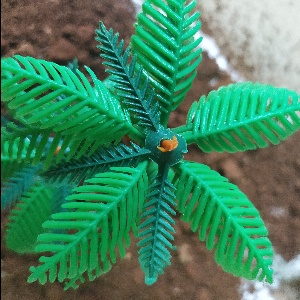plant: (1, 17, 268, 257)
